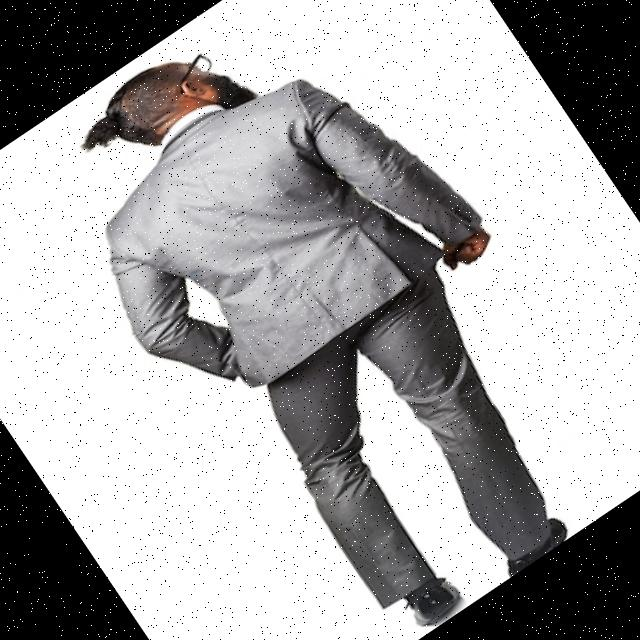Person: (14, 0, 640, 640)
